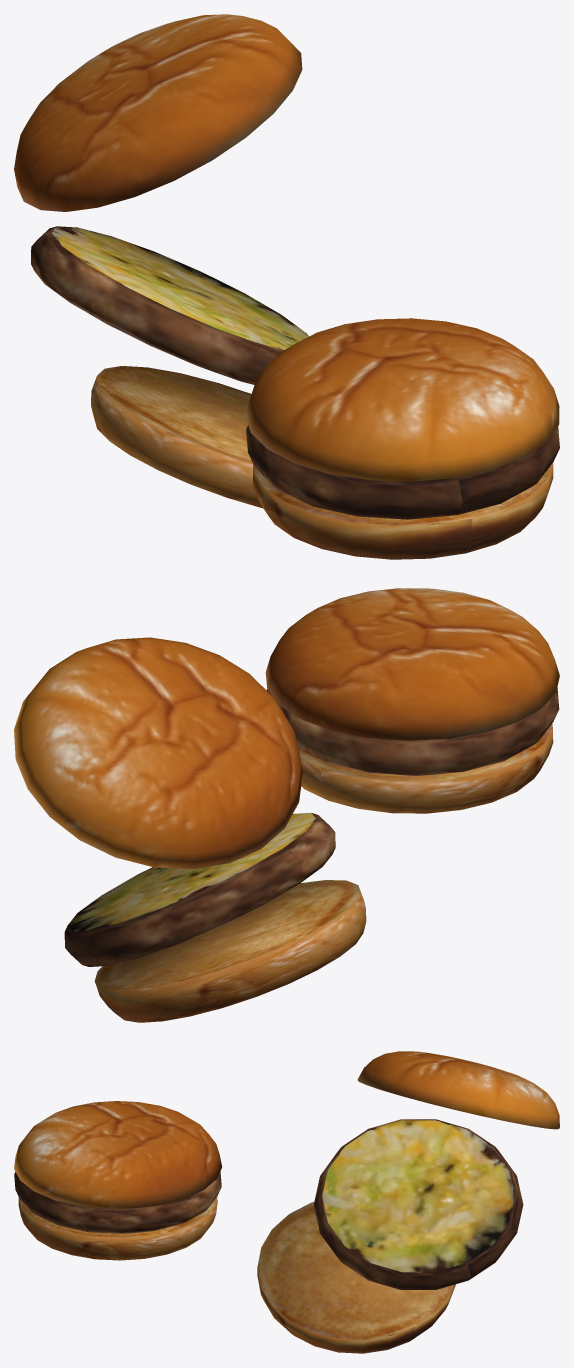
File: BurgerMcD.fbx
3 renders of one model, top to bottom at view 1: azimuth 30°, elevation 25°; view 2: azimuth 150°, elevation 25°; view 3: azimuth 270°, elevation 25°, orthographic. The views are drawn at different scales.
Parts seen in each view (by area): view 1: Burgir.001, Burgir; view 2: Burgir.001, Burgir; view 3: Burgir.001, Burgir.
Part boxes in pixels (x1,y1,x2,y2): Burgir.001: (14, 14, 308, 508); Burgir: (245, 318, 559, 559); Burgir.001: (14, 637, 366, 1022); Burgir: (265, 588, 559, 813); Burgir.001: (257, 1051, 559, 1353); Burgir: (14, 1101, 221, 1260).
Bounding box in the file's own units: 203 × 290 × 521.
Materials: 1 (1 with a texture image).
